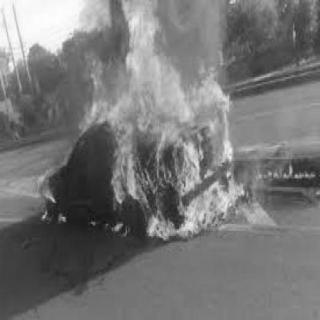Fire: (37, 0, 251, 239), (259, 163, 319, 183)
